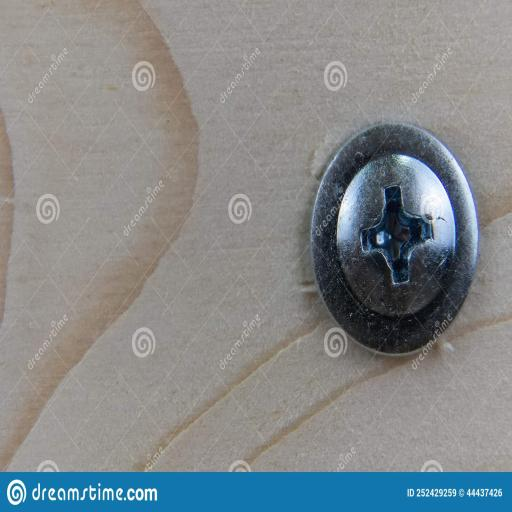Phillips: (309, 122, 480, 362)
